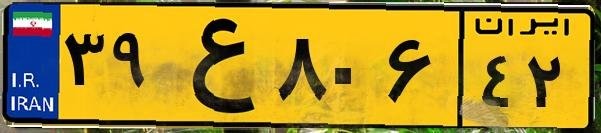0: (330, 28, 385, 110)
2: (525, 38, 570, 115)
3: (57, 26, 110, 100)
4: (475, 38, 525, 113)
6: (385, 28, 445, 110)
8: (270, 28, 330, 110)
9: (110, 28, 158, 98)
ع: (158, 12, 270, 120)
